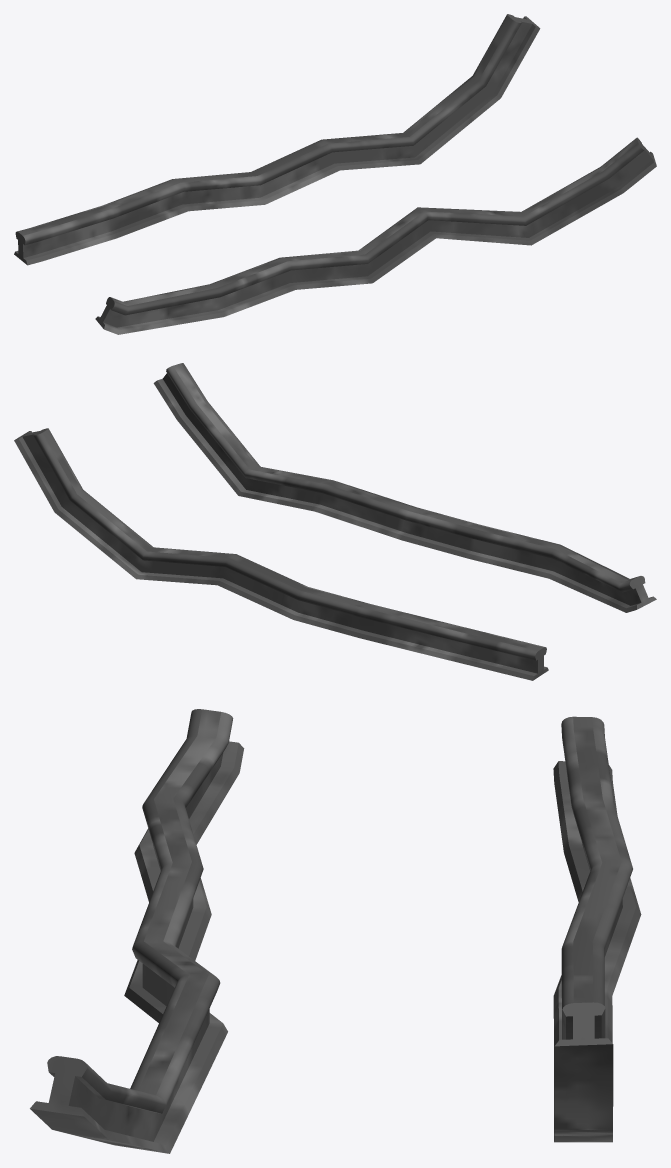
Rendered from Rail Pair 1.fbx.
3 views of the same model, one above another, from view 1: azimuth 30°, elevation 25°; view 2: azimuth 150°, elevation 25°; view 3: azimuth 270°, elevation 25° (orthographic). The views are drawn at different scales.
Parts seen in each view (by area): view 1: Rail_Pair_1; view 2: Rail_Pair_1; view 3: Rail_Pair_1.
Boxes of the visible parts, box(x1,y1,x2,y2) form: Rail_Pair_1: box(14, 14, 656, 334); Rail_Pair_1: box(14, 363, 656, 680); Rail_Pair_1: box(30, 709, 641, 1153).
Size of the model in its own units: 356 by 79.61 by 178.
1 material, 1 textured.
